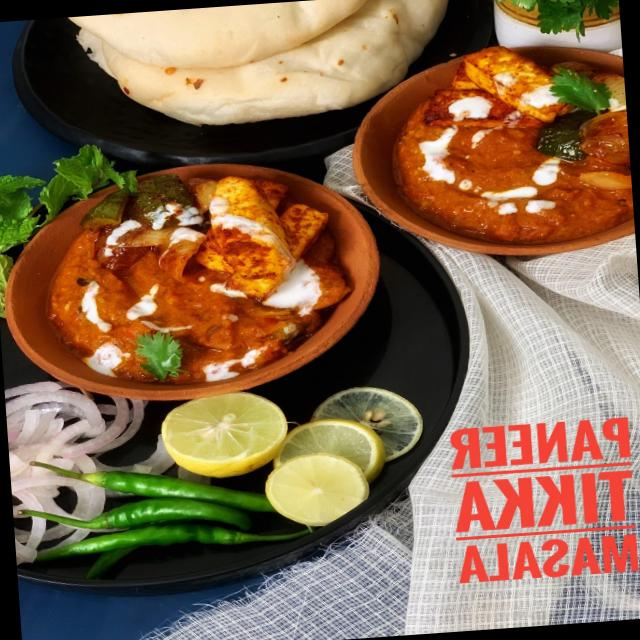roti: (82, 0, 436, 111)
